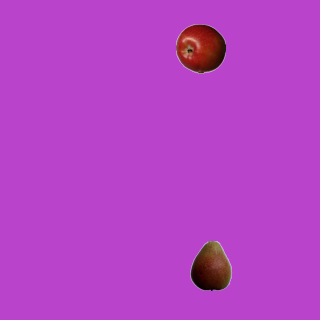Apple Braeburn: (175, 23, 225, 73)
Pear Forelle: (185, 240, 235, 290)
